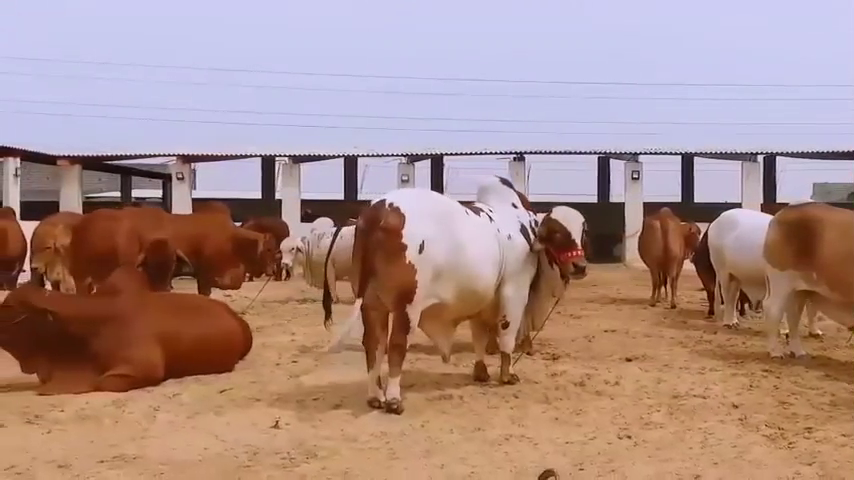bo: (304, 145, 612, 415), (4, 267, 273, 402), (139, 168, 279, 316), (690, 201, 832, 343), (748, 194, 851, 363), (67, 188, 194, 312), (273, 211, 372, 311), (627, 192, 698, 310), (22, 201, 87, 304), (1, 201, 30, 296)
